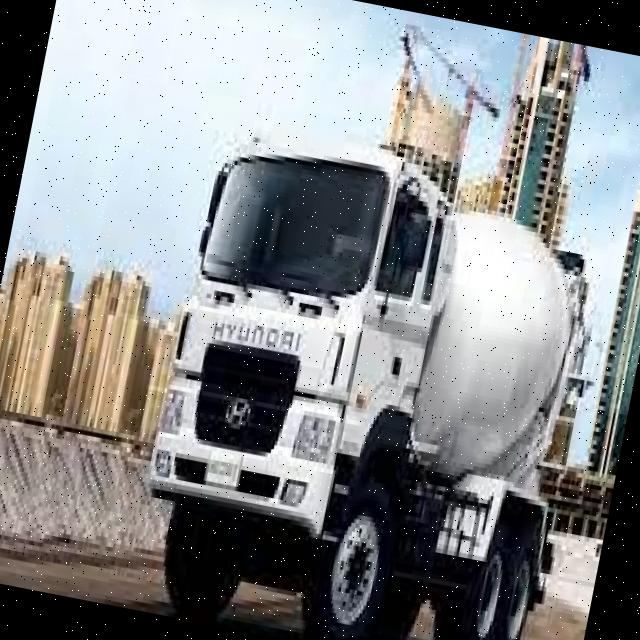Mixer Truck: (118, 107, 631, 640)
